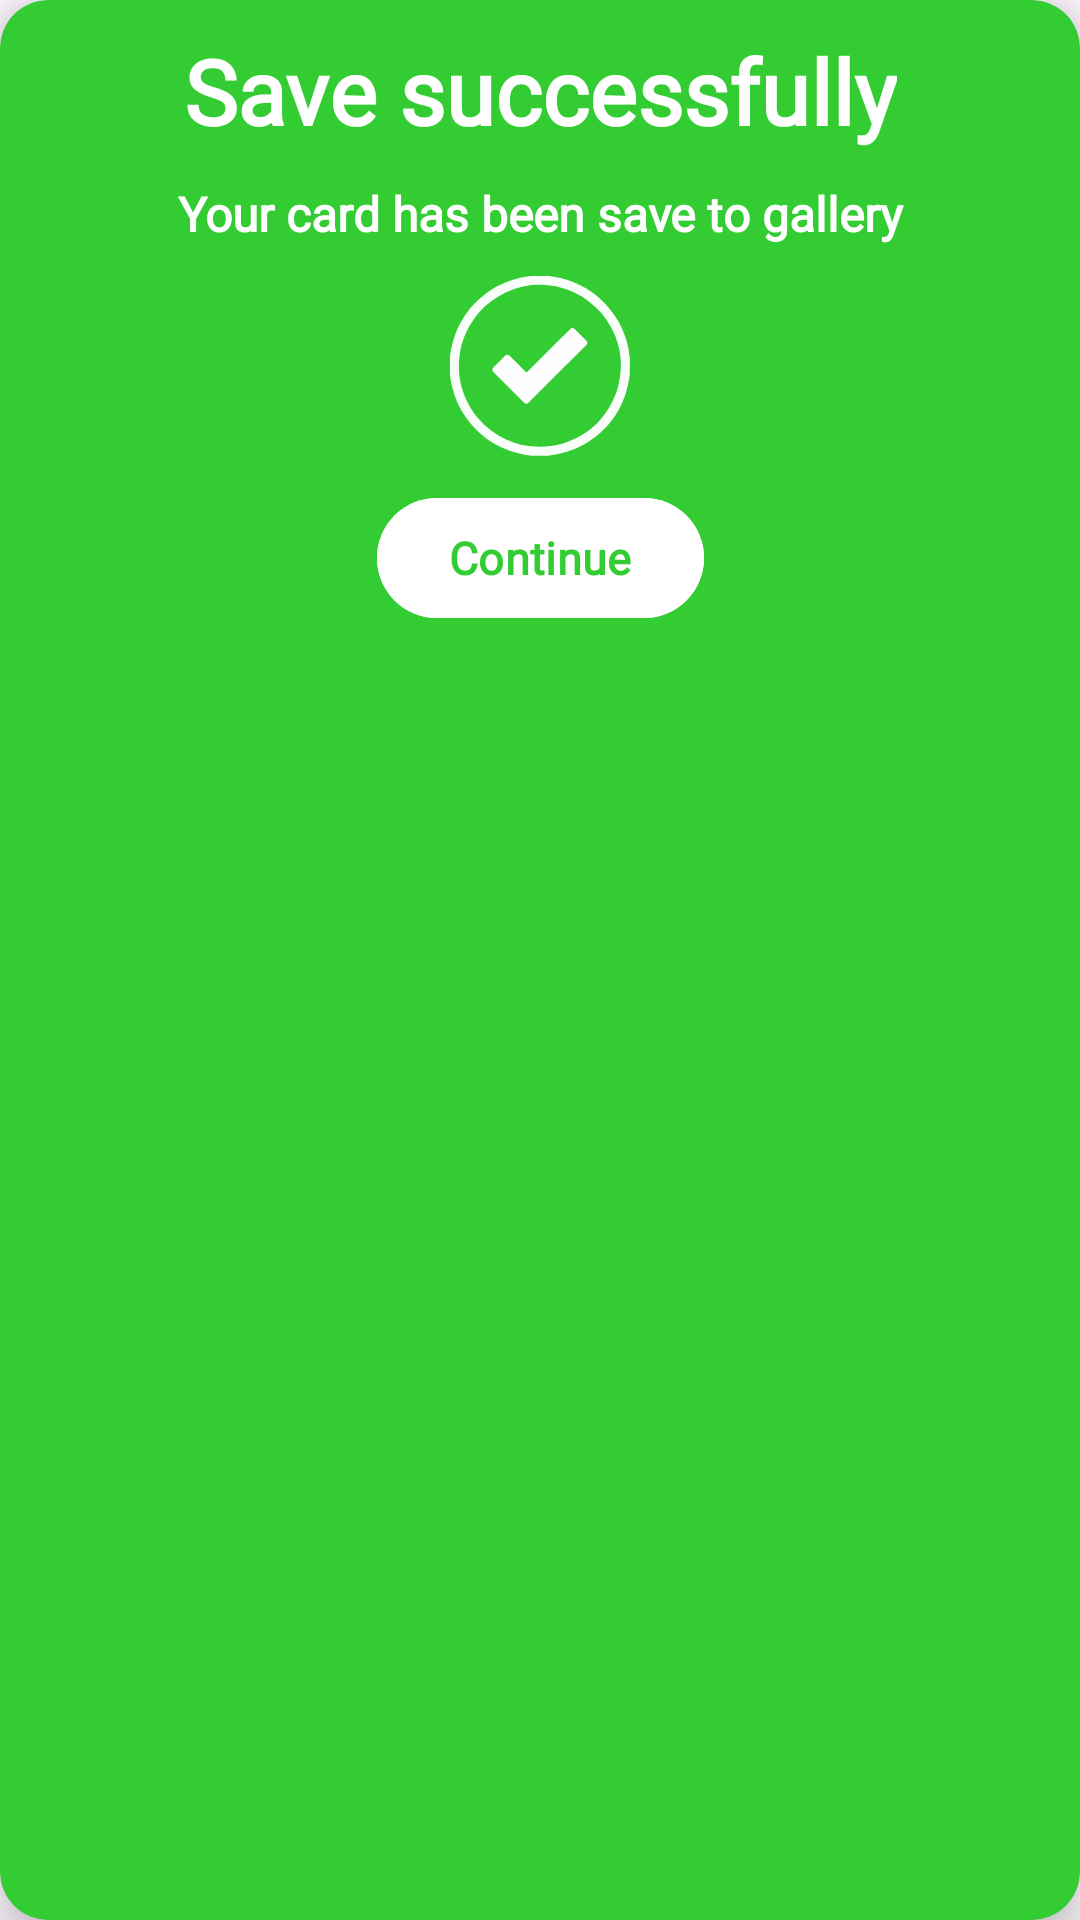

Icons on this 1080 x 1920 Android screen, each with the point to tap as (x,y):
accept: (540,366)
